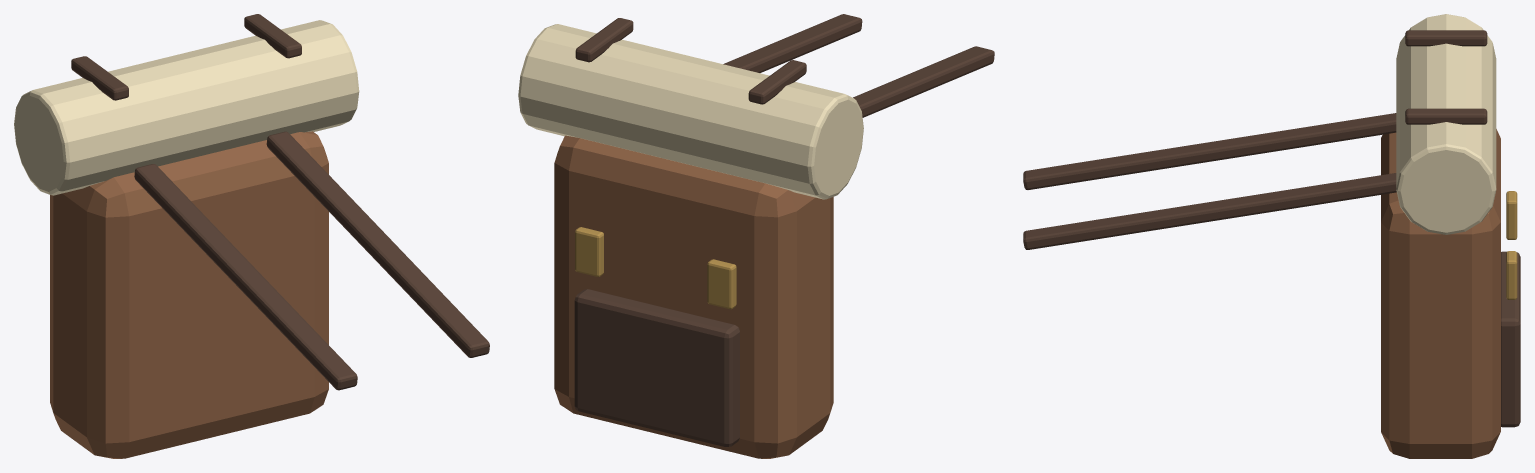
Rendered from backpack_bedroll.glb.
3 renders of one model, left to right at view 1: azimuth 30°, elevation 25°; view 2: azimuth 150°, elevation 25°; view 3: azimuth 270°, elevation 25°, orthographic. The views are drawn at different scales.
Parts seen in each view (by area): view 1: backpack_bedroll; view 2: backpack_bedroll; view 3: backpack_bedroll.
Boxes of the visible parts, left/top/right/bottom form: backpack_bedroll: left=14, top=14, right=489, bottom=458; backpack_bedroll: left=518, top=14, right=994, bottom=458; backpack_bedroll: left=1023, top=14, right=1520, bottom=458.
Size of the model in its own units: 0.58 by 0.696 by 0.9126.
